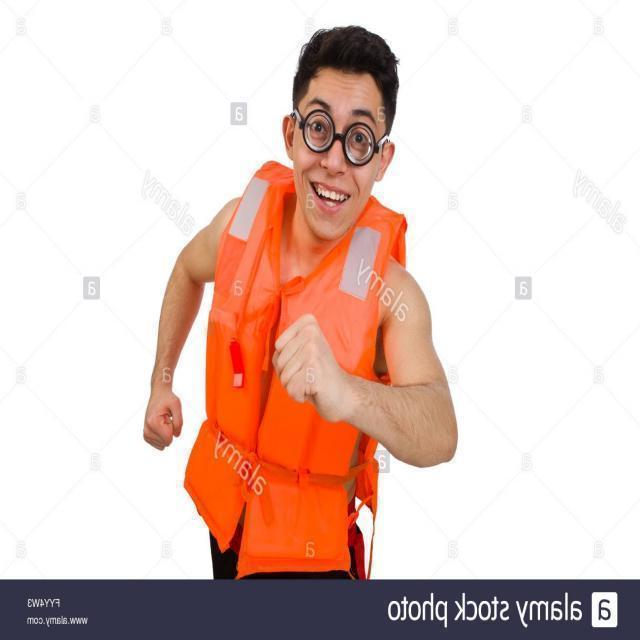safety_vest: (179, 164, 439, 495)
